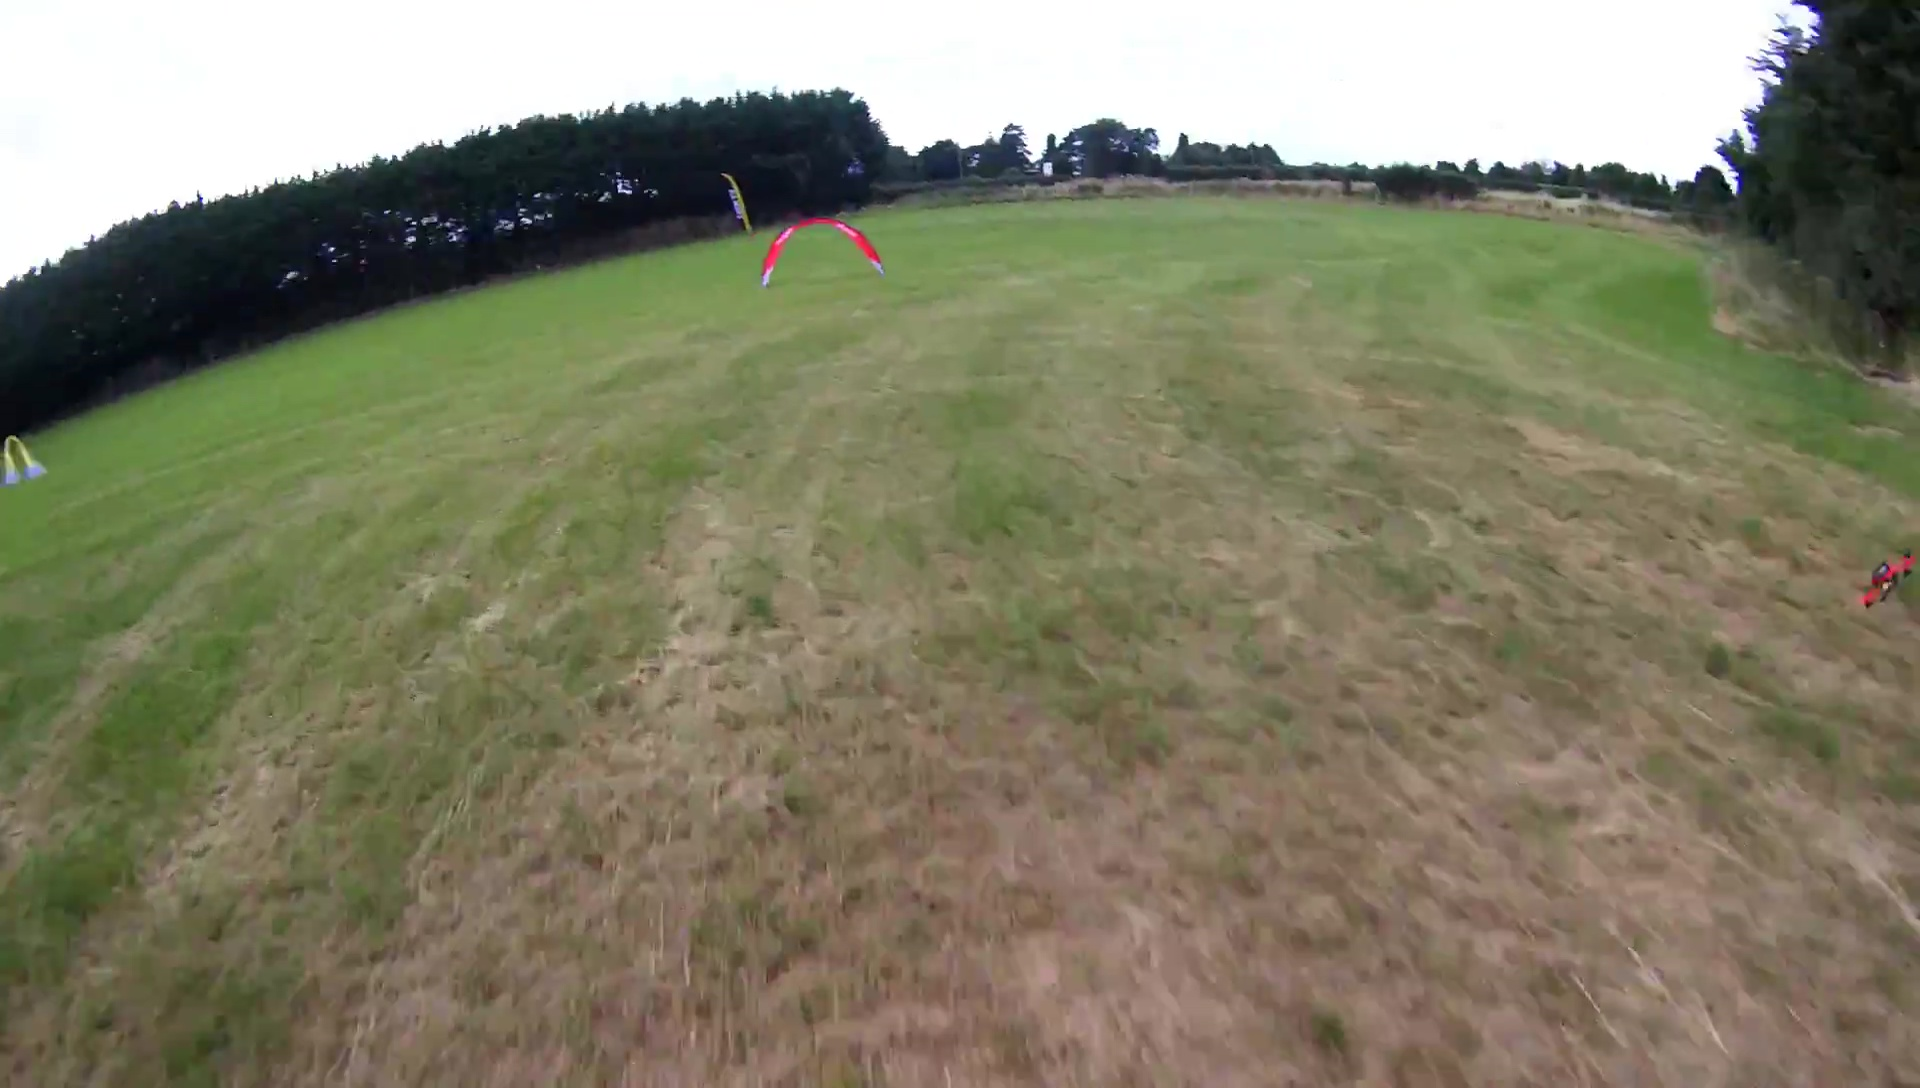gate: (760, 218, 885, 291)
